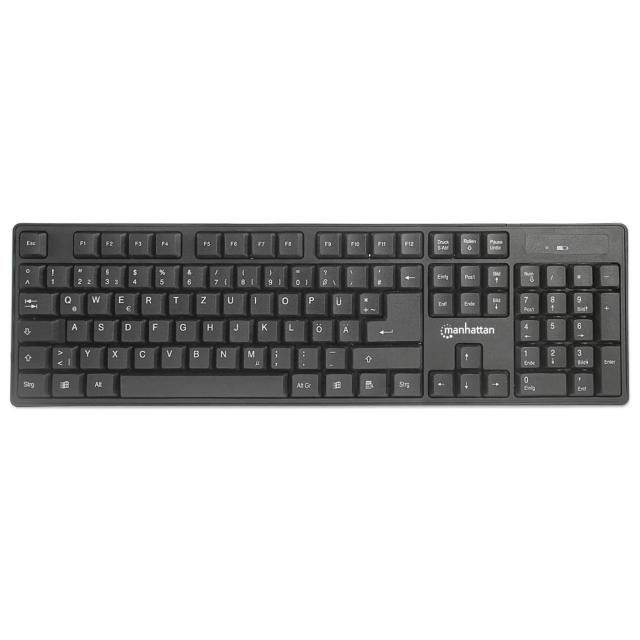0: (289, 263, 311, 286)
1: (44, 263, 66, 286)
2: (71, 262, 94, 286)
3: (98, 263, 119, 286)
4: (126, 263, 147, 286)
5: (152, 263, 174, 286)
6: (180, 263, 202, 286)
7: (206, 263, 229, 286)
8: (234, 263, 255, 287)
9: (261, 263, 283, 287)
a: (65, 317, 85, 340)
accent: (344, 263, 366, 286)
ae: (336, 317, 357, 340)
alt-left: (83, 371, 112, 395)
altgr-right: (289, 371, 317, 395)
b: (186, 344, 208, 367)
c: (132, 344, 153, 367)
caret: (17, 262, 38, 287)
comma: (268, 344, 289, 368)
d: (118, 317, 140, 340)
del: (399, 264, 421, 287)
e: (112, 290, 133, 313)
enter: (366, 290, 421, 340)
f: (147, 317, 167, 340)
g: (173, 317, 194, 340)
h: (200, 317, 221, 340)
hash: (371, 262, 393, 286)
i: (248, 290, 269, 313)
j: (227, 317, 248, 340)
k: (255, 317, 276, 340)
keyboard: (8, 221, 632, 408)
l: (282, 317, 303, 340)
less: (50, 344, 72, 368)
m: (241, 344, 263, 367)
minus: (323, 344, 344, 367)
n: (214, 344, 235, 367)
o: (275, 290, 297, 314)
oe: (309, 317, 331, 340)
p: (302, 290, 323, 313)
plus: (356, 290, 378, 313)
point: (295, 344, 316, 367)
q: (57, 290, 79, 313)
r: (139, 290, 160, 313)
s: (91, 317, 112, 340)
shift-left: (16, 344, 45, 368)
shift-lock: (15, 317, 60, 341)
shift-right: (350, 344, 420, 367)
space: (117, 371, 284, 397)
ss: (316, 263, 338, 286)
strg-left: (15, 371, 44, 396)
strg-right: (390, 371, 420, 395)
t: (166, 290, 187, 313)
tab: (16, 290, 51, 314)
u: (221, 290, 243, 313)
ue: (329, 290, 351, 313)
v: (159, 343, 181, 367)
w: (85, 289, 106, 313)
x: (105, 344, 126, 367)
y: (78, 345, 98, 367)
z: (193, 290, 215, 313)
